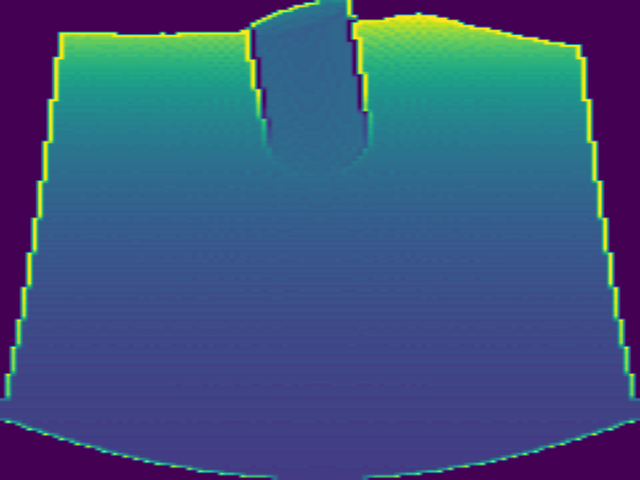cylinder: (246, 2, 372, 170)
